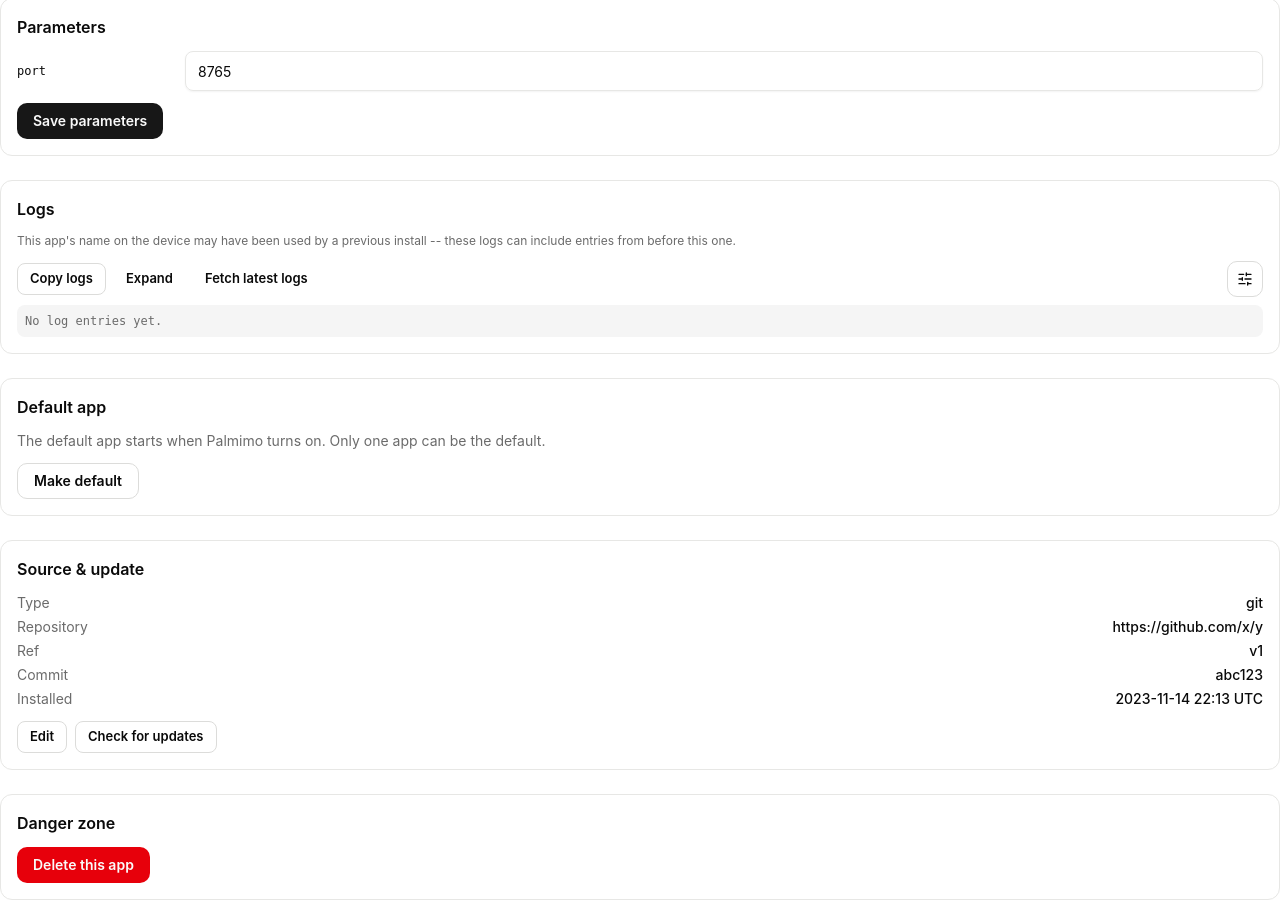
Scenario: AppDetailPanel › keeps Update disabled while another app is running
The width and height of the screenshot is (1280, 900).
(page scrolled)
Click the button "Check for updates": {"x": 146, "y": 737} [75, 721, 216, 753]
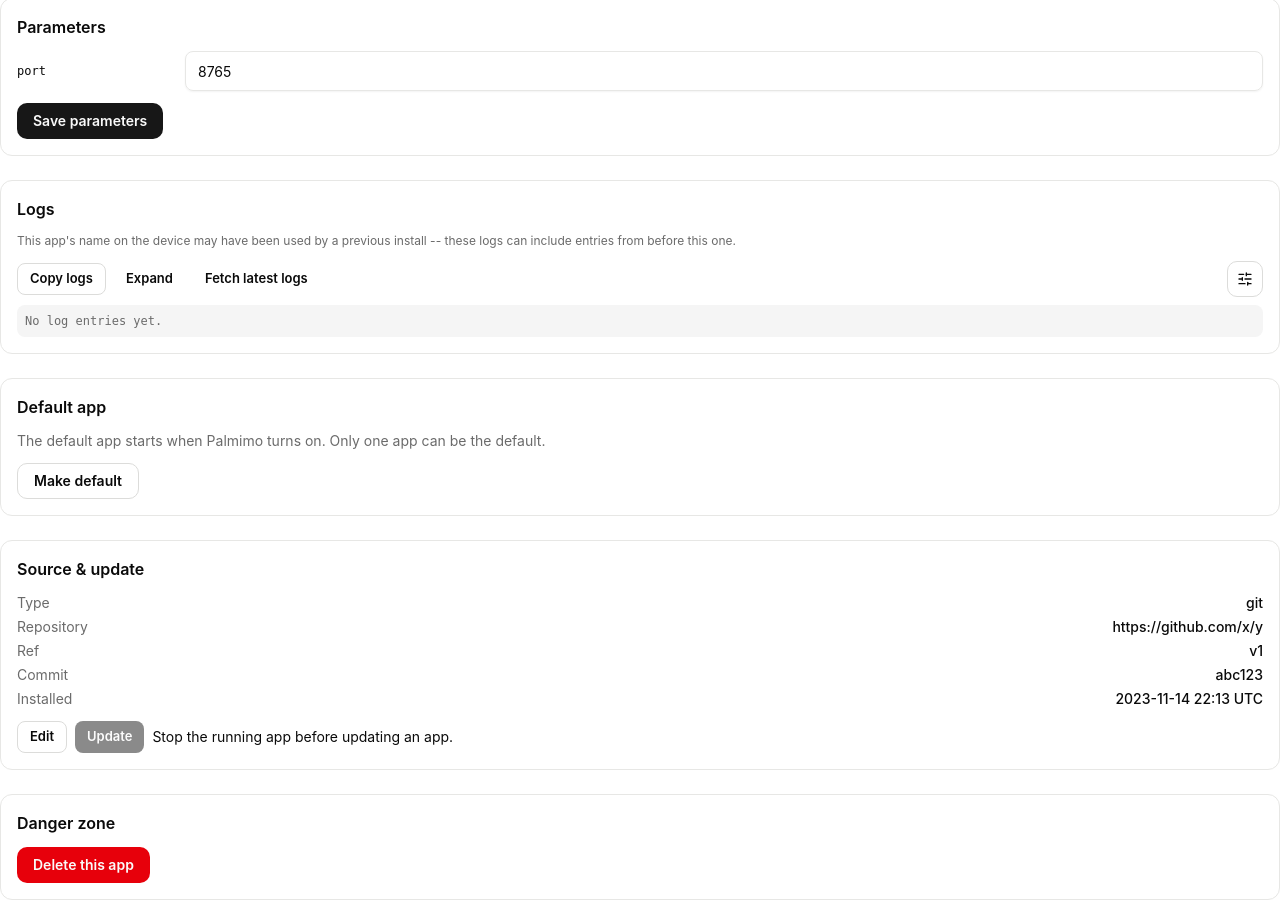
Expected: the button "Update" is disabled, [75, 721, 144, 753]
